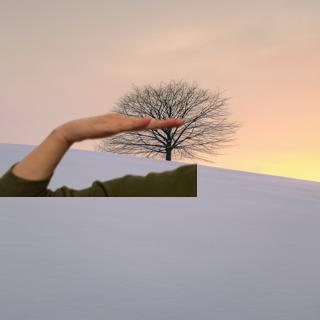WAIT: (49, 107, 190, 144)
